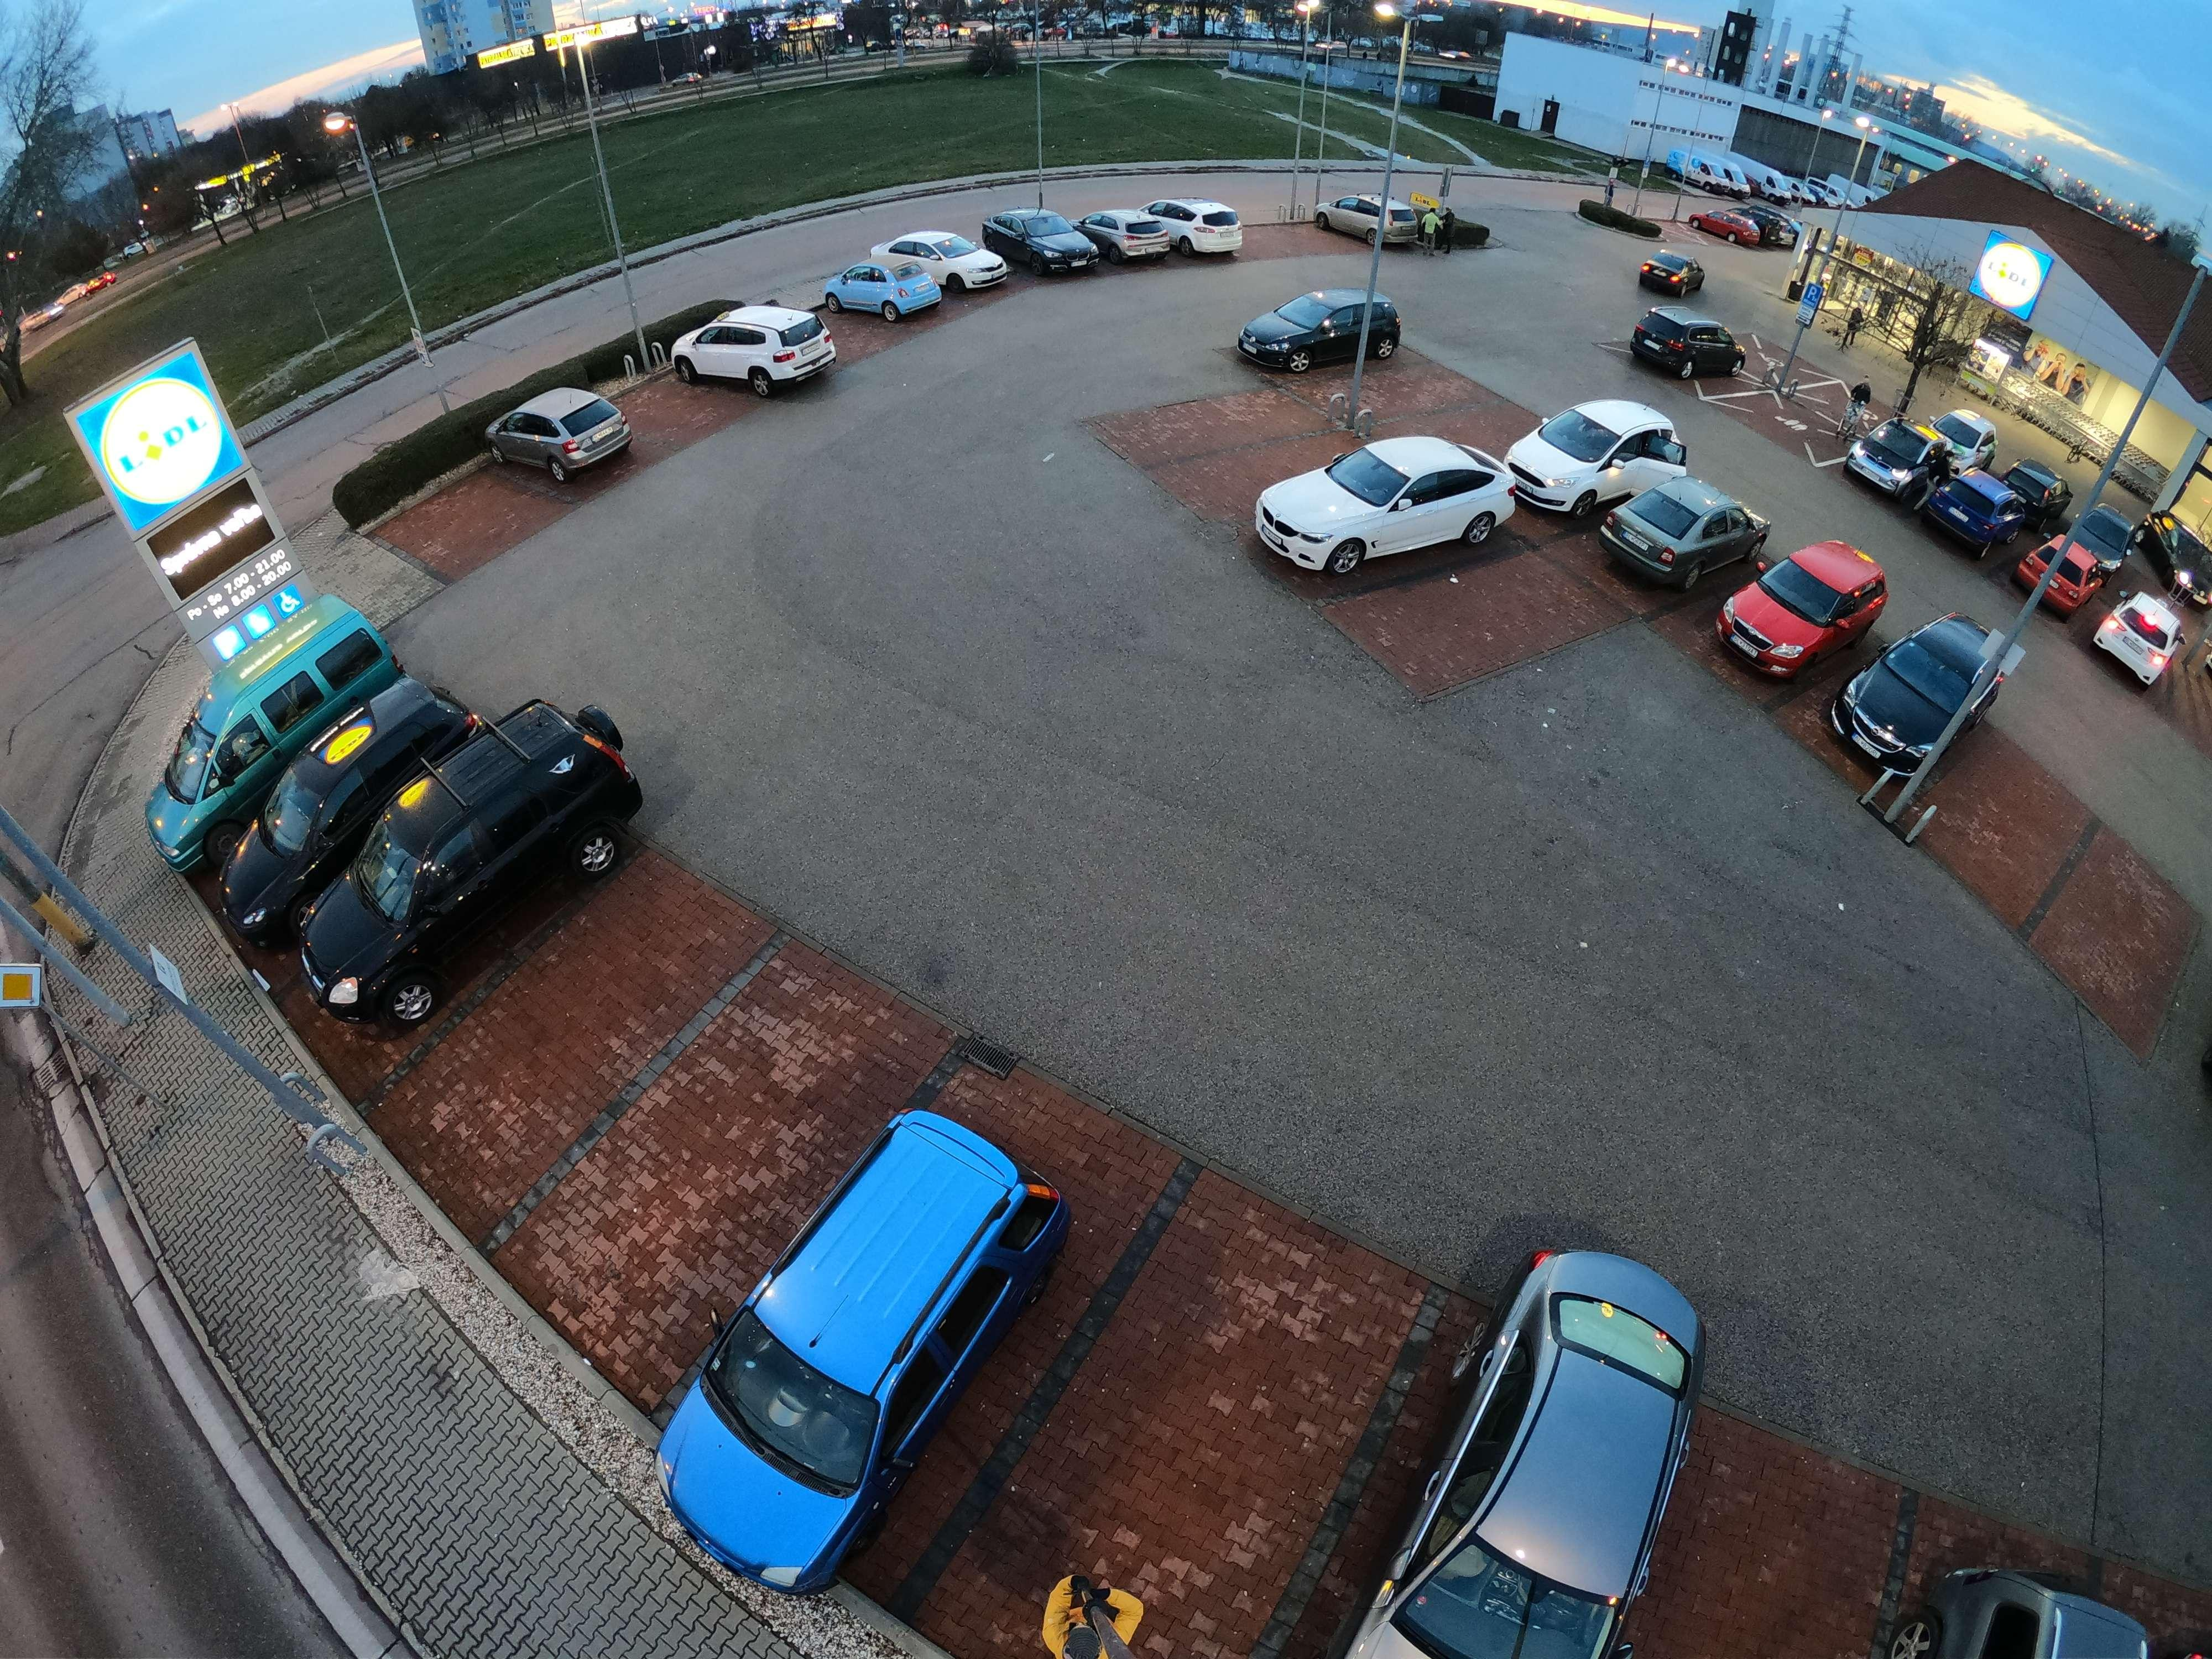empty: (672, 1077, 1109, 1612), (1360, 1229, 1752, 1640), (307, 701, 639, 1002), (192, 685, 465, 943), (98, 605, 385, 849), (1245, 432, 1507, 582), (1855, 1556, 2205, 1656), (1824, 613, 2012, 769), (1709, 537, 1898, 680), (1590, 460, 1775, 596), (1501, 401, 1677, 512), (671, 301, 846, 399), (482, 382, 639, 479), (1223, 295, 1399, 380), (2008, 518, 2151, 617), (817, 253, 967, 331), (1925, 467, 2052, 552), (2088, 587, 2191, 690), (1843, 415, 1954, 500), (873, 232, 1019, 296), (1097, 202, 1247, 265), (1627, 310, 1754, 383), (981, 206, 1103, 275), (1317, 185, 1451, 246), (2137, 514, 2207, 617), (1080, 213, 1184, 272), (1635, 253, 1710, 298), (1696, 209, 1775, 247)
occupied: (1033, 1310, 1362, 1553), (632, 1039, 852, 1201), (1648, 1523, 1883, 1656), (2043, 857, 2174, 1023), (500, 941, 685, 1058), (1947, 753, 2076, 899), (1425, 572, 1575, 660), (1167, 378, 1284, 448), (1214, 429, 1346, 490), (425, 488, 540, 549), (1386, 387, 1500, 446), (637, 390, 721, 436)
